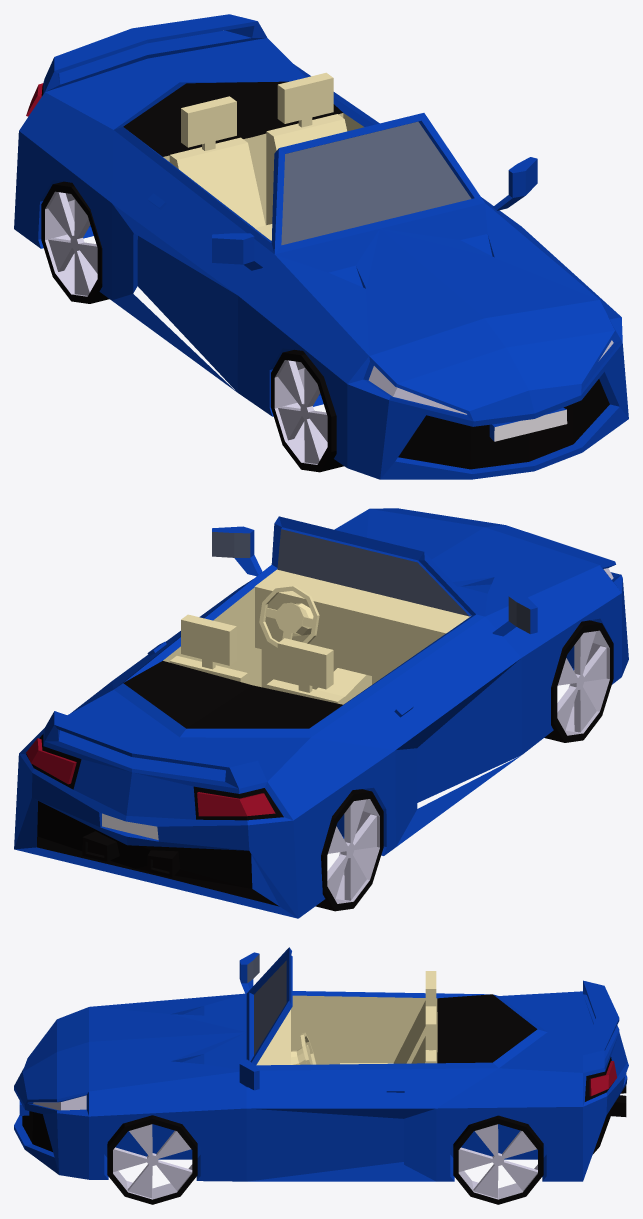
Rendered from Roadster.gltf.
3 views of the same model, one above another, from view 1: azimuth 30°, elevation 25°; view 2: azimuth 150°, elevation 25°; view 3: azimuth 270°, elevation 25° (orthographic). The views are drawn at different scales.
Visible parts, largest first — view 1: Roadster, Roadster wheel front right, Roadster wheel rear right; view 2: Roadster, Roadster wheel front right, Roadster wheel rear right; view 3: Roadster, Roadster wheel front left, Roadster wheel rear left.
Boxes of the visible parts, box(x1,y1,x2,y2) form: Roadster: box(14, 14, 628, 479); Roadster wheel front right: box(271, 349, 343, 472); Roadster wheel rear right: box(41, 181, 109, 303); Roadster: box(14, 508, 628, 918); Roadster wheel front right: box(544, 620, 613, 742); Roadster wheel rear right: box(315, 789, 383, 911); Roadster: box(14, 947, 628, 1181); Roadster wheel front left: box(107, 1115, 197, 1204); Roadster wheel rear left: box(453, 1115, 543, 1204).
Size of the model in its own units: 2.63 by 1.84 by 5.73.
